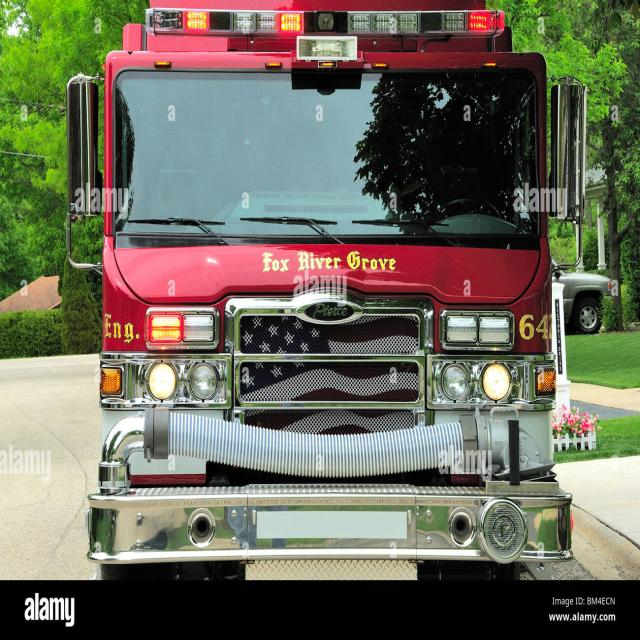Firetruck: (55, 0, 584, 580)
